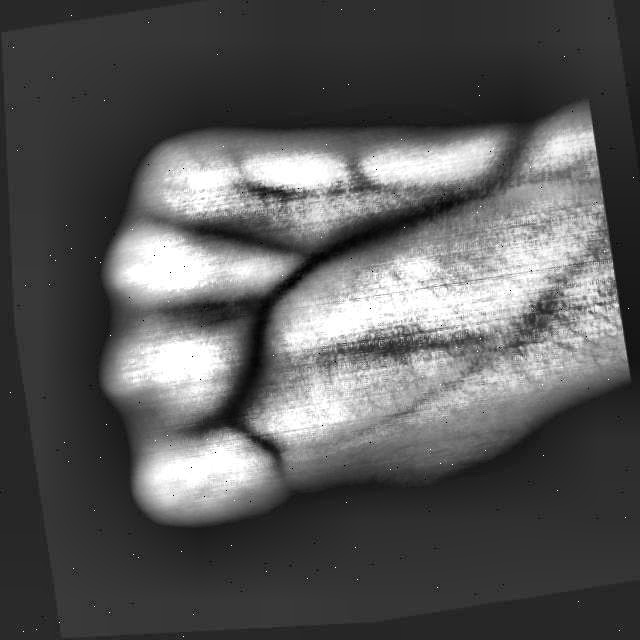Vein: (269, 184, 458, 301)
